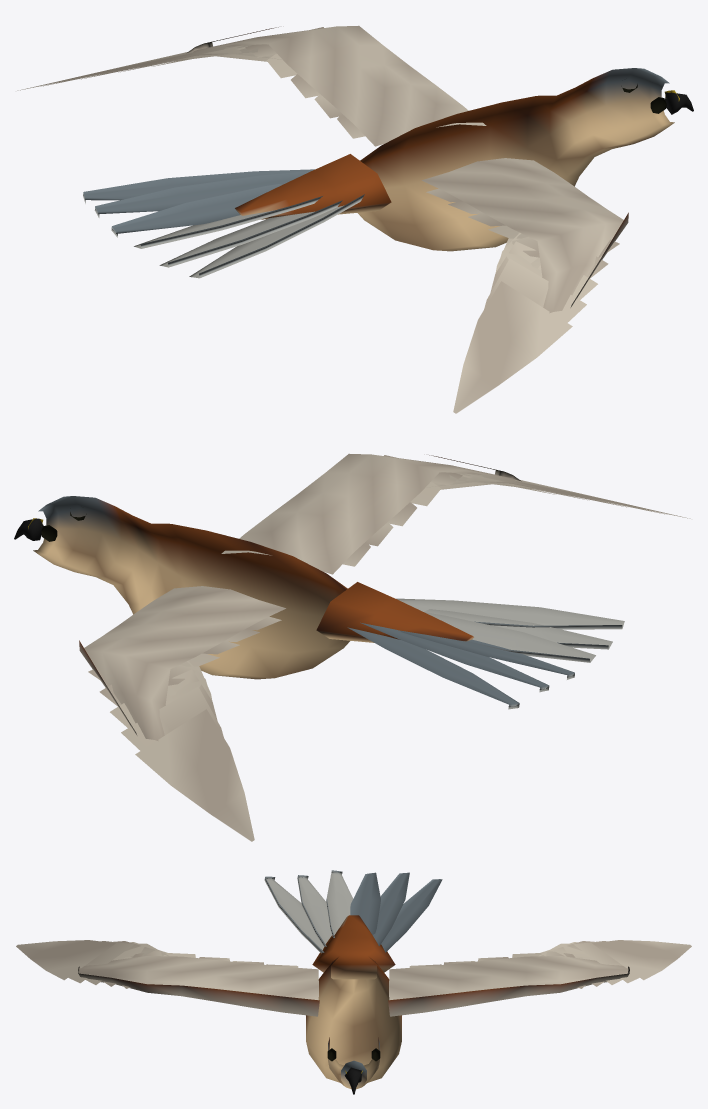
The model's file is SM_Bird_kestrel_flap3_LOD1.glb.
3 renders of one model, top to bottom at view 1: azimuth 30°, elevation 25°; view 2: azimuth 150°, elevation 25°; view 3: azimuth 270°, elevation 25°, orthographic. The views are drawn at different scales.
Parts seen in each view (by area): view 1: SM_Bird_kestrel_flap3_LOD1; view 2: SM_Bird_kestrel_flap3_LOD1; view 3: SM_Bird_kestrel_flap3_LOD1.
Part boxes in pixels (x1=…): SM_Bird_kestrel_flap3_LOD1: x1=17, y1=25, x2=693, y2=413; SM_Bird_kestrel_flap3_LOD1: x1=14, y1=453, x2=690, y2=841; SM_Bird_kestrel_flap3_LOD1: x1=16, y1=870, x2=691, y2=1094.
Size of the model in its own units: 0.379 by 0.089 by 0.5116.
